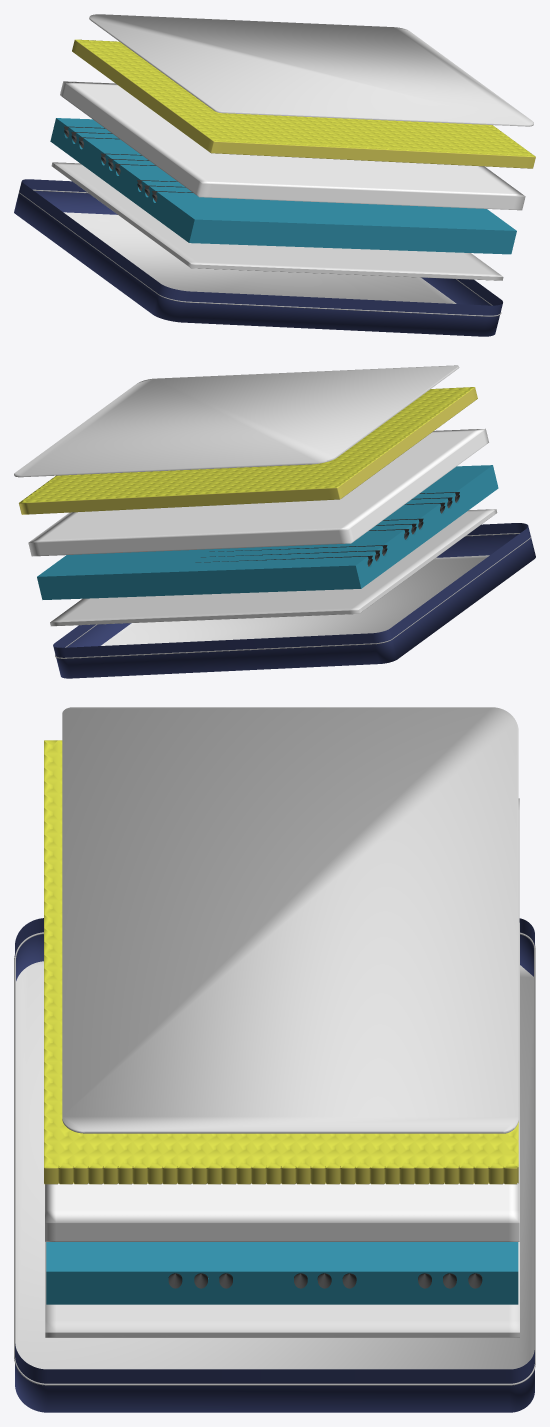
File: Leisure_Sleep.glb
The picture shows the model from 3 angles, top to bottom: view 1: azimuth 30°, elevation 25°; view 2: azimuth 150°, elevation 25°; view 3: azimuth 270°, elevation 25°; orthographic projection. The views are drawn at different scales.
Parts seen in each view (by area): view 1: Cube.112, Cube.115, Cube.117, Cube.116, Cube.113, Cube.114; view 2: Cube.112, Cube.115, Cube.117, Cube.116, Cube.113, Cube.114; view 3: Cube.112, Cube.115, Cube.113, Cube.117, Cube.116, Cube.114.
Boxes of the visible parts, bbox=[...] form: Cube.112: bbox=[89, 14, 533, 126]; Cube.115: bbox=[14, 179, 502, 336]; Cube.117: bbox=[50, 118, 516, 254]; Cube.116: bbox=[60, 81, 525, 210]; Cube.113: bbox=[72, 39, 535, 168]; Cube.114: bbox=[51, 162, 503, 280]; Cube.112: bbox=[14, 365, 459, 477]; Cube.115: bbox=[53, 523, 535, 678]; Cube.117: bbox=[37, 465, 498, 599]; Cube.116: bbox=[28, 428, 488, 556]; Cube.113: bbox=[19, 387, 477, 514]; Cube.114: bbox=[50, 509, 497, 626]; Cube.112: bbox=[62, 707, 518, 1133]; Cube.115: bbox=[14, 918, 535, 1412]; Cube.113: bbox=[44, 740, 518, 1184]; Cube.117: bbox=[46, 1242, 518, 1304]; Cube.116: bbox=[45, 798, 519, 1241]; Cube.114: bbox=[45, 923, 519, 1337].
Size of the model in its own units: 16.19 by 11.17 by 11.01.
11 materials, 1 textured.
